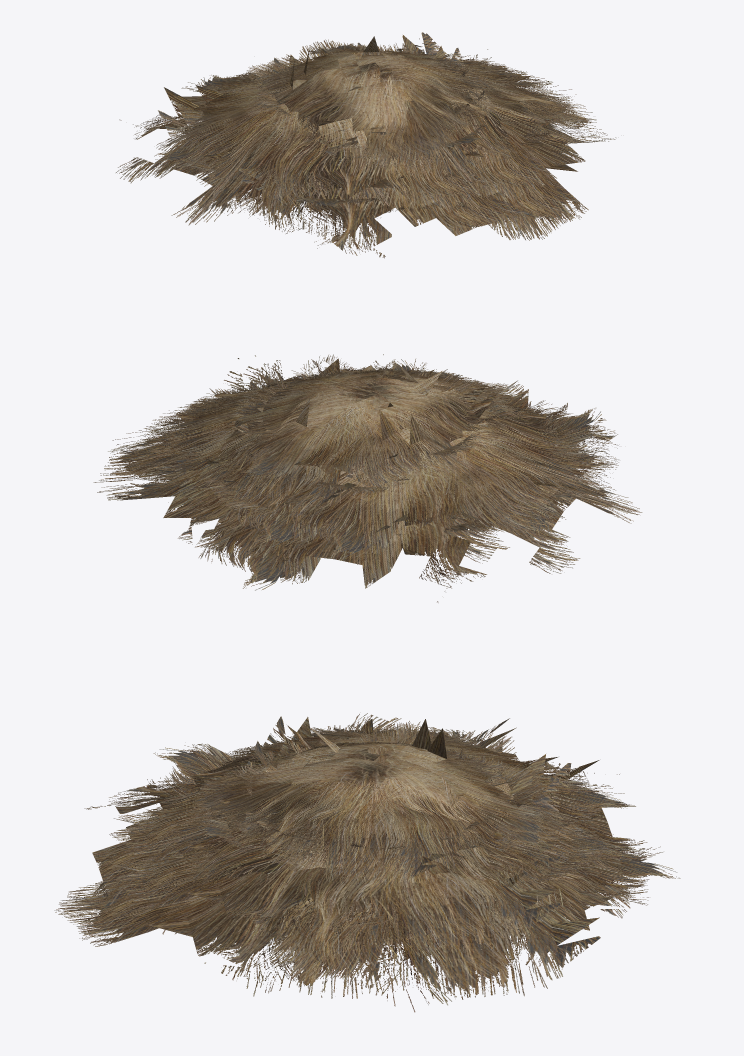
The model's file is hay_pile.glb.
The picture shows the model from 3 angles, top to bottom: view 1: azimuth 30°, elevation 25°; view 2: azimuth 150°, elevation 25°; view 3: azimuth 270°, elevation 25°; orthographic projection. The views are drawn at different scales.
Parts seen in each view (by area): view 1: Object_14, Object_18, Object_12, Object_6, Object_4, Object_10, Object_8, Object_16, Object_24, Object_22, Object_20; view 2: Object_14, Object_18, Object_12, Object_4, Object_6, Object_8, Object_10, Object_24, Object_16, Object_22, Object_20; view 3: Object_6, Object_18, Object_4, Object_8, Object_14, Object_10, Object_12, Object_24, Object_22, Object_16, Object_20.
Boxes of the visible parts, x1=… form: Object_14: x1=156, y1=42, x2=516, y2=213; Object_18: x1=246, y1=36, x2=500, y2=161; Object_12: x1=116, y1=43, x2=537, y2=258; Object_6: x1=265, y1=32, x2=580, y2=202; Object_4: x1=189, y1=33, x2=615, y2=240; Object_10: x1=258, y1=43, x2=505, y2=169; Object_8: x1=250, y1=49, x2=591, y2=182; Object_16: x1=154, y1=80, x2=477, y2=207; Object_24: x1=165, y1=39, x2=505, y2=212; Object_22: x1=253, y1=43, x2=498, y2=135; Object_20: x1=246, y1=56, x2=493, y2=158; Object_14: x1=224, y1=367, x2=601, y2=564; Object_18: x1=228, y1=364, x2=524, y2=488; Object_12: x1=168, y1=395, x2=642, y2=602; Object_4: x1=93, y1=358, x2=562, y2=590; Object_6: x1=136, y1=355, x2=497, y2=552; Object_8: x1=146, y1=356, x2=522, y2=515; Object_10: x1=223, y1=354, x2=505, y2=492; Object_24: x1=203, y1=400, x2=608, y2=535; Object_16: x1=280, y1=407, x2=596, y2=537; Object_22: x1=253, y1=354, x2=488, y2=461; Object_20: x1=230, y1=359, x2=506, y2=493; Object_6: x1=109, y1=797, x2=626, y2=965; Object_18: x1=194, y1=719, x2=563, y2=876; Object_4: x1=54, y1=799, x2=680, y2=1012; Object_8: x1=155, y1=737, x2=587, y2=981; Object_14: x1=109, y1=718, x2=625, y2=886; Object_10: x1=195, y1=736, x2=556, y2=887; Object_12: x1=84, y1=733, x2=648, y2=959; Object_24: x1=153, y1=713, x2=607, y2=881; Object_22: x1=239, y1=722, x2=505, y2=861; Object_16: x1=159, y1=716, x2=590, y2=843; Object_20: x1=189, y1=761, x2=547, y2=880.
Bounding box in the file's own units: 9.45 × 2.07 × 9.04.
Materials: 1 (1 with a texture image).
